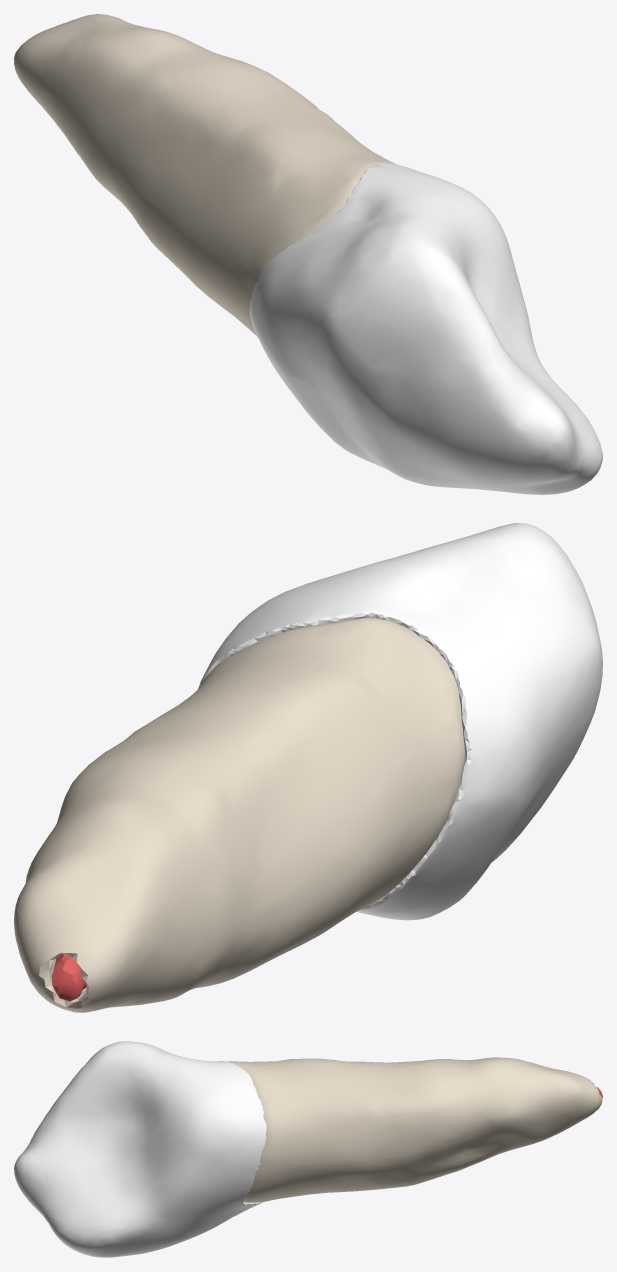
Rendered from 乳牙下颌尖牙.fbx.
3 views of the same model, one above another, from view 1: azimuth 30°, elevation 25°; view 2: azimuth 150°, elevation 25°; view 3: azimuth 270°, elevation 25° (orthographic). The views are drawn at different scales.
Parts seen in each view (by area): view 1: texture_W, texture_B; view 2: texture_B, texture_W, texture_S; view 3: texture_W, texture_B.
Part boxes in pixels (x1=…): texture_W: x1=249, y1=163, x2=602, y2=494; texture_B: x1=14, y1=14, x2=396, y2=336; texture_B: x1=14, y1=617, x2=464, y2=1012; texture_W: x1=198, y1=523, x2=602, y2=920; texture_S: x1=51, y1=953, x2=86, y2=1001; texture_W: x1=14, y1=1041, x2=266, y2=1257; texture_B: x1=227, y1=1057, x2=602, y2=1202.
Size of the model in its own units: 7.77 by 8.67 by 25.62.
Materials: 3 (3 with a texture image).
